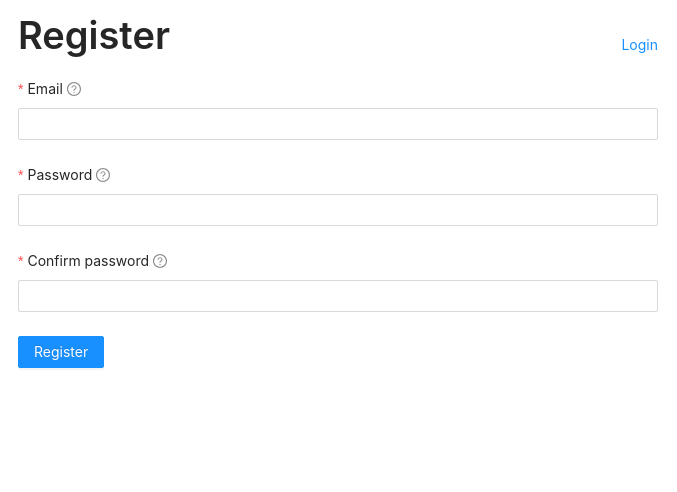
Test case: Registration page › should show email error message
This screenshot has width=677, height=492.
Expected: the text "The user already exists" is not shown
Type "kovchy@gmail.com" into the field at {"x": 338, "y": 124}, box [18,108,658,140]
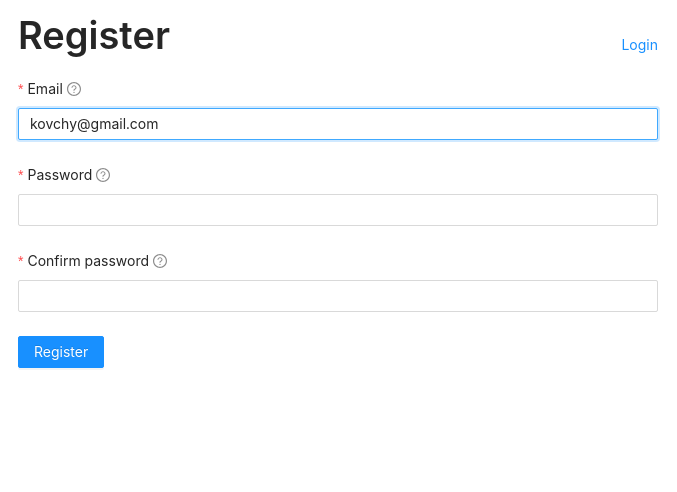
Type "123123" into the password field labelled "Password" at {"x": 338, "y": 210}, box [18,194,658,226]
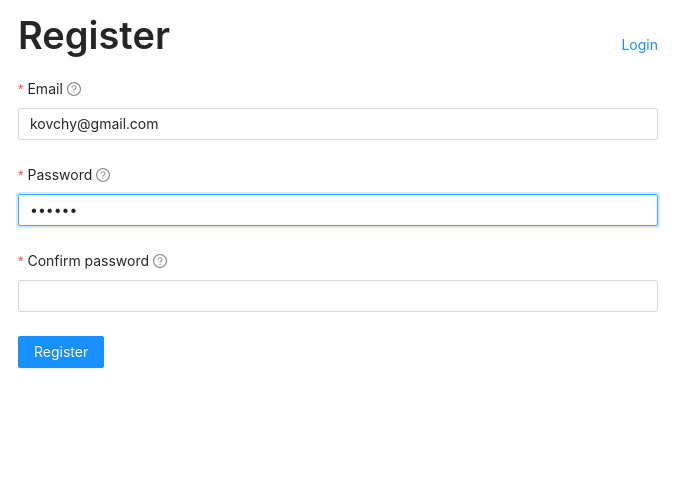
Type "123123" into the password field labelled "Confirm password" at {"x": 338, "y": 296}, box [18,280,658,312]
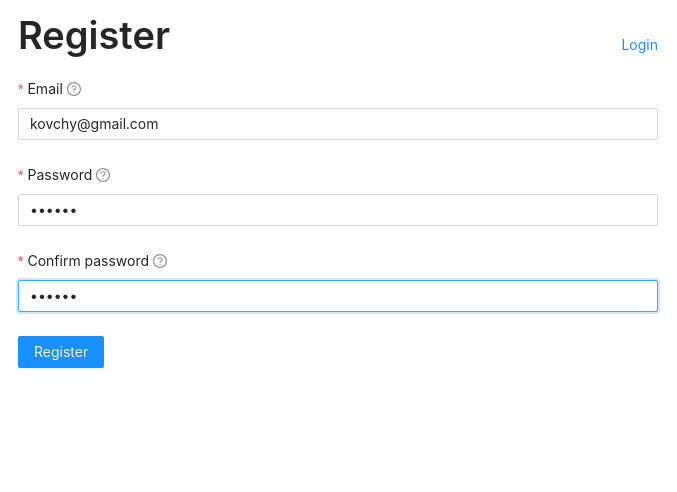
Click the button at {"x": 61, "y": 352}, box [18,336,104,368]
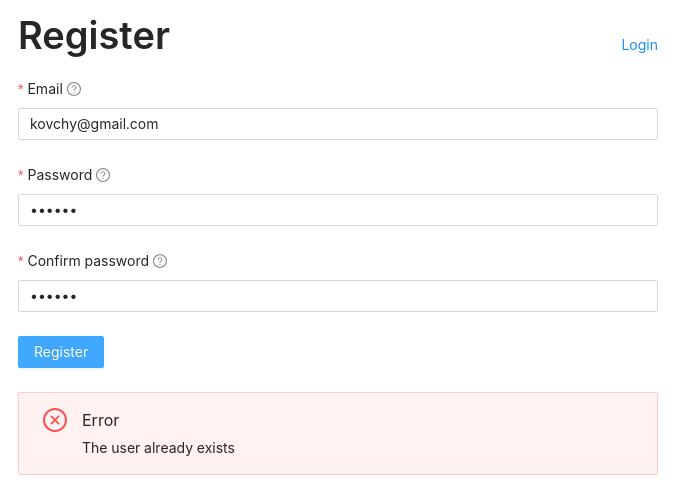
Expected: the text "The user already exists" is shown, [82,439,235,456]
